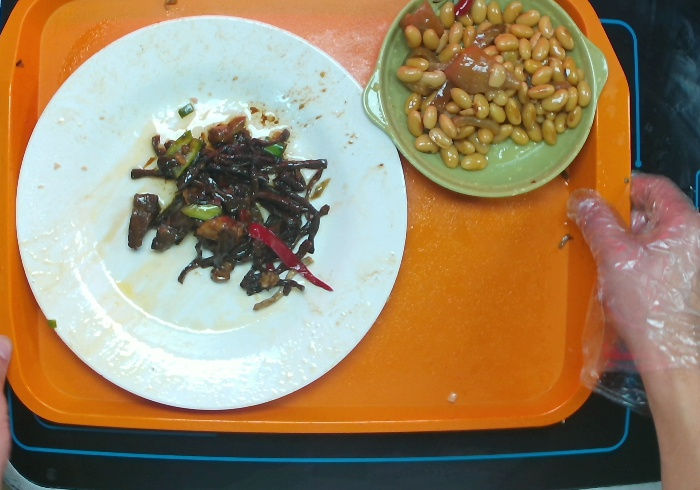NLDX-Da_Yuan_Pan: (16, 14, 410, 416)
NLDX-Lv_Hua_Shuang_Er_Die: (361, 3, 608, 201)
